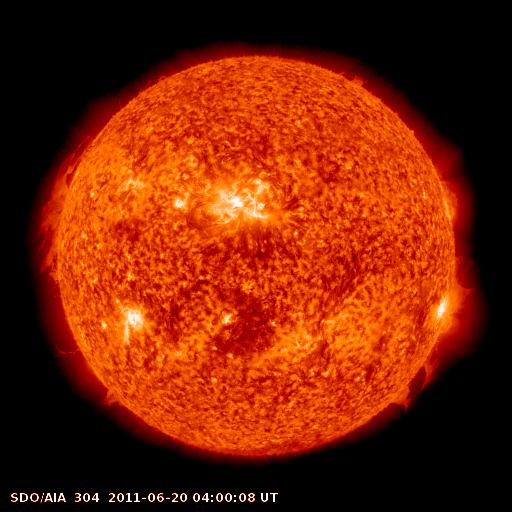prominence: (33, 131, 97, 283), (384, 342, 447, 413), (440, 248, 486, 313), (333, 65, 377, 93), (46, 337, 86, 364), (93, 381, 126, 412)
